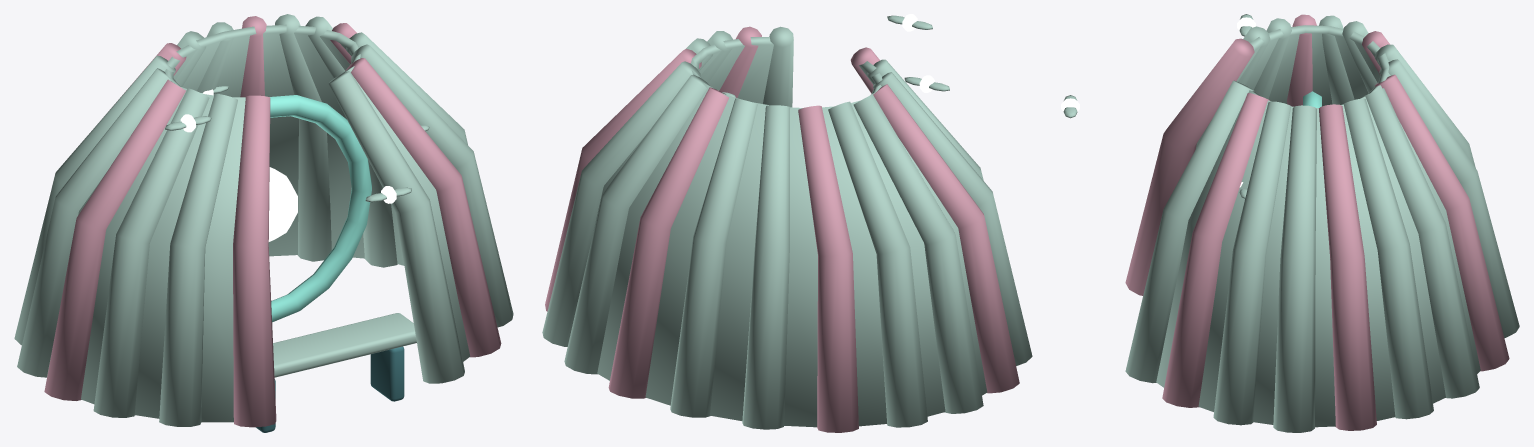
File: discovery_shell-choir.glb
The picture shows the model from 3 angles, left to right: view 1: azimuth 30°, elevation 25°; view 2: azimuth 150°, elevation 25°; view 3: azimuth 270°, elevation 25°; orthographic projection. The views are drawn at different scales.
Visible parts, largest first — view 1: discovery_shell-choir_part_0, discovery_shell-choir_part_1, discovery_shell-choir_part_4, discovery_shell-choir_part_3; view 2: discovery_shell-choir_part_0; view 3: discovery_shell-choir_part_0.
Boxes of the visible parts, <box> form: discovery_shell-choir_part_0: <box>14,14,513,432</box>; discovery_shell-choir_part_1: <box>268,167,297,241</box>; discovery_shell-choir_part_4: <box>165,114,211,132</box>; discovery_shell-choir_part_3: <box>365,186,411,203</box>; discovery_shell-choir_part_0: <box>542,26,1032,432</box>; discovery_shell-choir_part_0: <box>1125,14,1519,432</box>.
Bounding box in the file's own units: 4.53 × 3 × 4.17.
